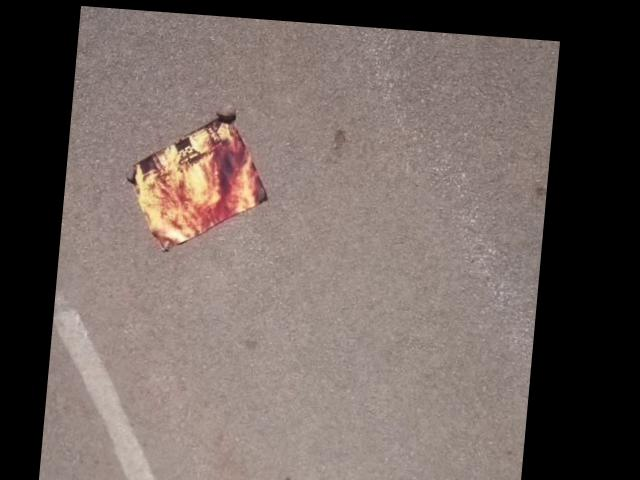fire-poster: (121, 105, 278, 256)
